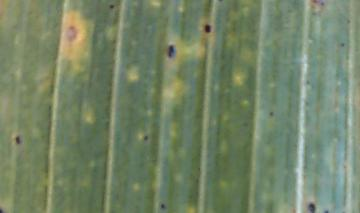tarspot: (167, 44, 175, 58), (203, 23, 212, 33), (307, 202, 315, 213), (13, 136, 22, 145), (142, 133, 150, 142), (268, 110, 275, 117), (339, 42, 346, 48), (160, 203, 166, 209), (108, 4, 115, 9), (320, 2, 325, 8), (324, 210, 329, 213), (1, 208, 3, 213)
